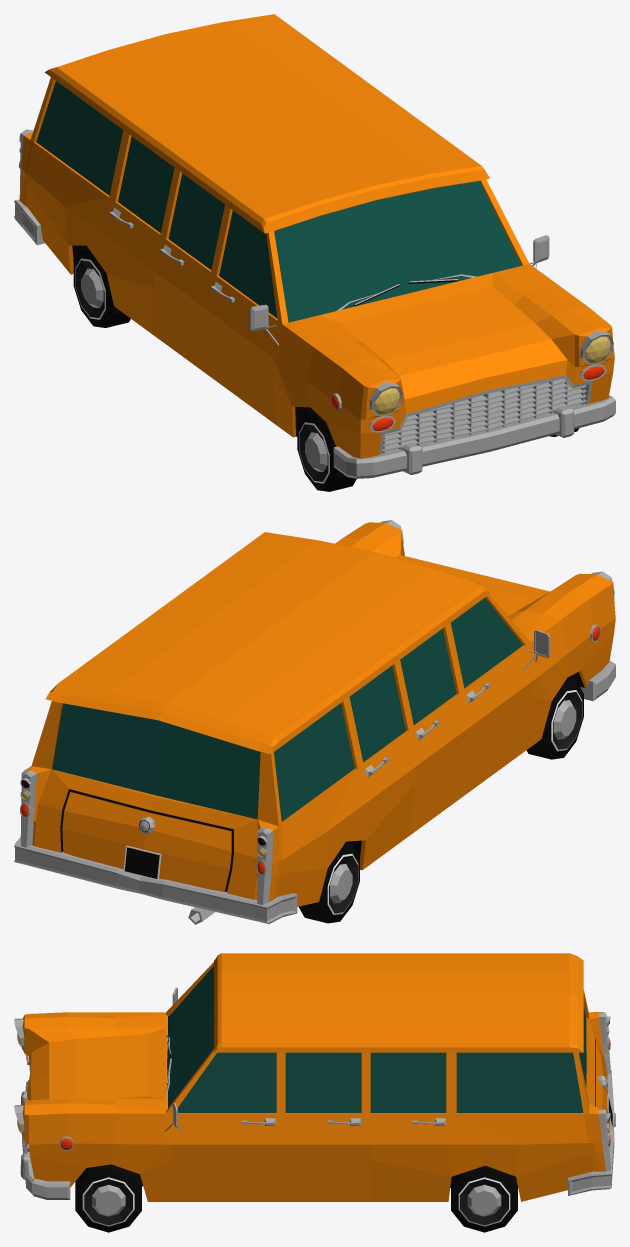
The model's file is StationWagon_01.FBX.
3 views of the same model, one above another, from view 1: azimuth 30°, elevation 25°; view 2: azimuth 150°, elevation 25°; view 3: azimuth 270°, elevation 25° (orthographic). The views are drawn at different scales.
Parts seen in each view (by area): view 1: StationWagon_1, bumper_f, grill, wheel_f_r, wheel_b_r, lights, headLights, bumper_b; view 2: StationWagon_1, bumper_b, wheel_f_r, wheel_b_r, licensePlate, bumper_f, lights; view 3: StationWagon_1, wheel_f_l, wheel_b_l, bumper_f, bumper_b, lights.
Boxes of the visible parts, x1=… form: StationWagon_1: x1=19, y1=14, x2=614, y2=458; bumper_f: x1=333, y1=395, x2=615, y2=478; grill: x1=382, y1=379, x2=586, y2=453; wheel_f_r: x1=297, y1=410, x2=356, y2=491; wheel_b_r: x1=73, y1=247, x2=130, y2=327; lights: x1=19, y1=133, x2=613, y2=432; headLights: x1=373, y1=336, x2=610, y2=414; bumper_b: x1=14, y1=199, x2=44, y2=245; StationWagon_1: x1=20, y1=522, x2=615, y2=906; bumper_b: x1=14, y1=837, x2=297, y2=924; wheel_f_r: x1=526, y1=678, x2=583, y2=759; wheel_b_r: x1=299, y1=842, x2=359, y2=923; licensePlate: x1=123, y1=845, x2=161, y2=880; bumper_f: x1=580, y1=661, x2=615, y2=700; lights: x1=20, y1=520, x2=614, y2=876; StationWagon_1: x1=22, y1=953, x2=610, y2=1201; wheel_f_l: x1=75, y1=1164, x2=141, y2=1232; wheel_b_l: x1=451, y1=1165, x2=517, y2=1232; bumper_f: x1=20, y1=1080, x2=70, y2=1199; bumper_b: x1=568, y1=1070, x2=614, y2=1195; lights: x1=14, y1=1016, x2=610, y2=1151.
Size of the model in its own units: 26.23 by 18.91 by 54.59.
